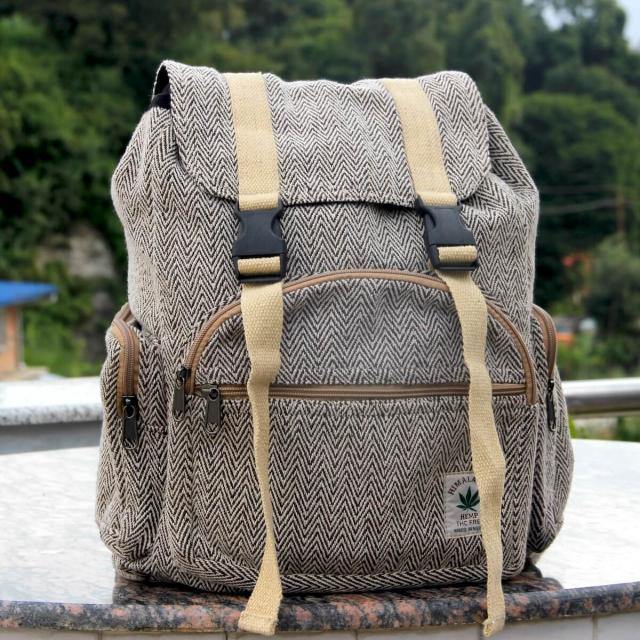Backpacks: (105, 58, 572, 582)
